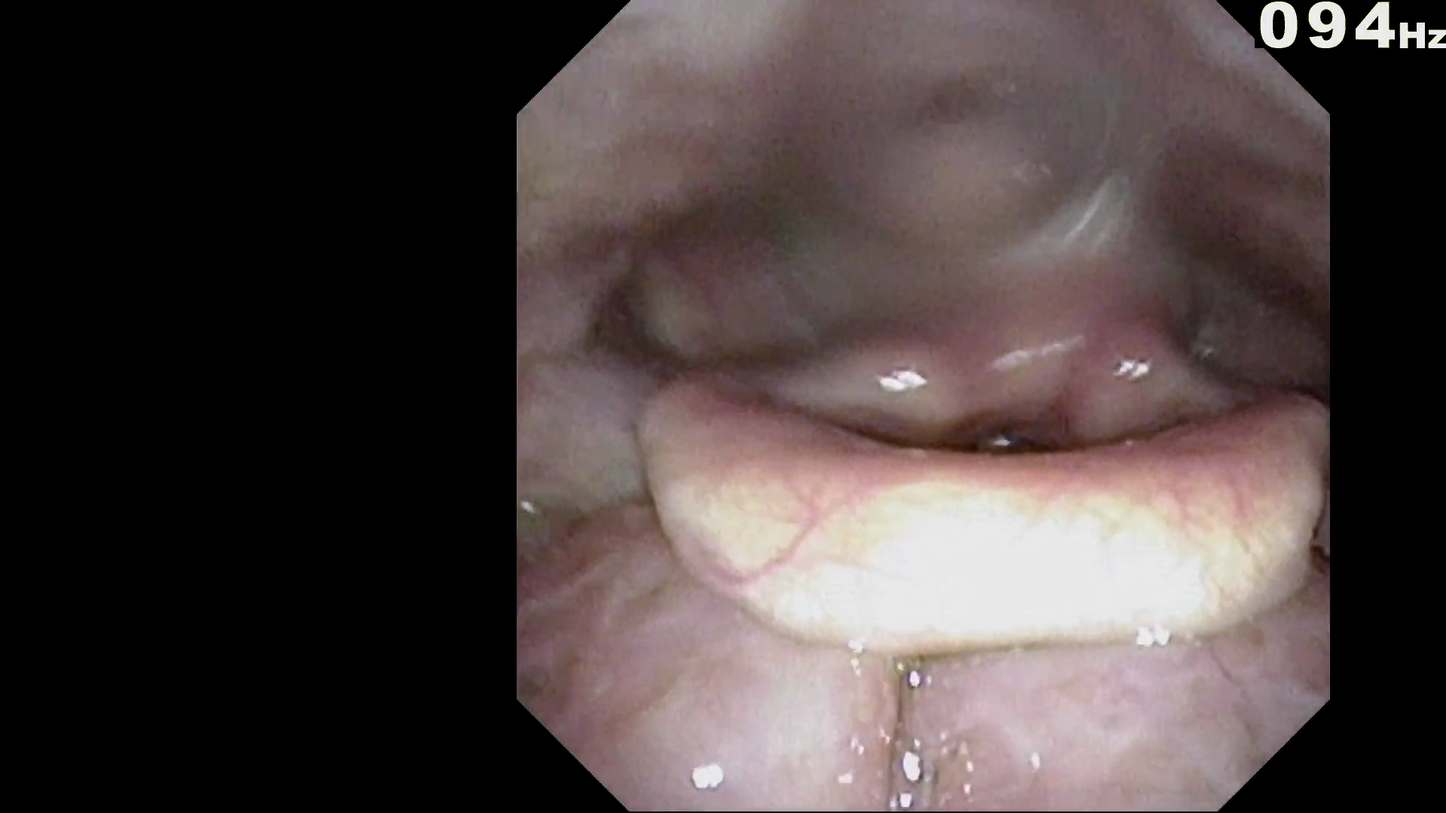epiglottis: (696, 416, 1305, 640)
